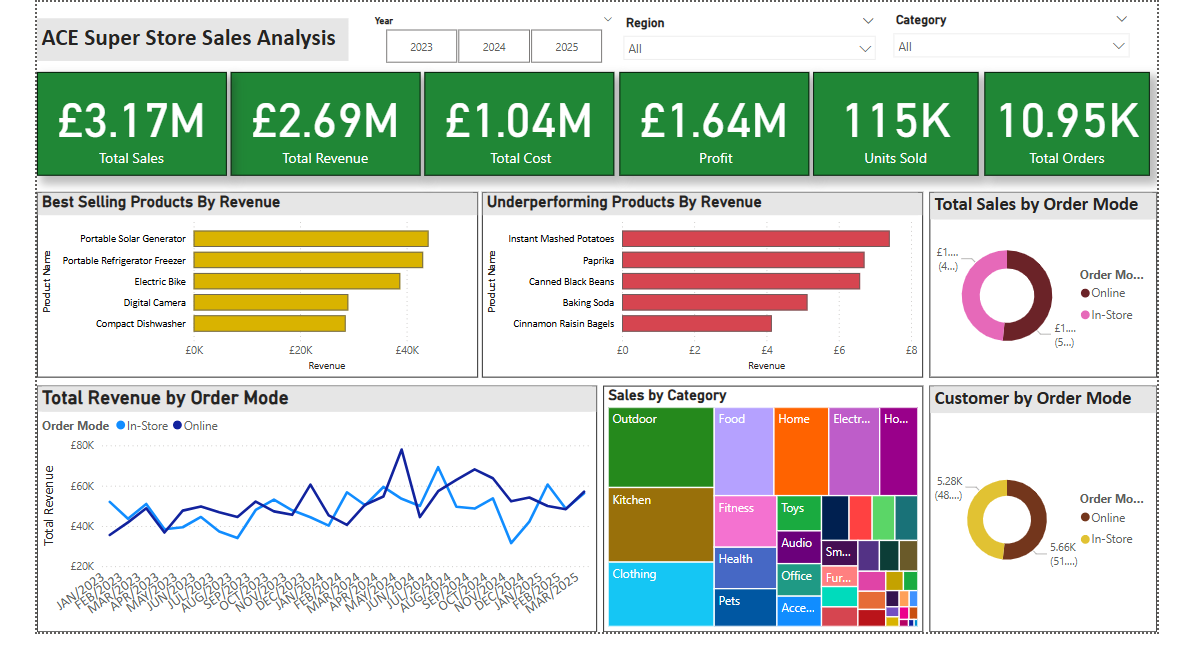

The dashboard page shown, as its layout file describes it:
{"tool":"powerbi","page":{"name":"Page 1","canvas":[1280,720],"ordinal":0},"visuals":[{"type":"lineChart","title":"Total Revenue by  Order Mode","fields":{"Y":["Sum(Processed Sales Dataset.Total Revenue)"],"Category":["Date.Month_Year"],"Series":["Sales.Order Mode"]},"box":[0,438.6,640,281.4],"z":1000},{"type":"clusteredBarChart","title":"Best Selling Products By Revenue","fields":{"Category":["Product.Product Name"],"Y":["Sum(Sales.Total Revenue)"]},"box":[0,217.1,503.7,211.8],"z":2000},{"type":"slicer","fields":{"Values":["Date.Year"]},"box":[372.2,10.1,297.2,66.4],"z":3001},{"type":"textbox","box":[0,18.8,356.4,49.1],"z":3002},{"type":"slicer","fields":{"Values":["Location.Region"]},"box":[659.3,10.1,308.8,66.4],"z":3003},{"type":"slicer","fields":{"Values":["Product.Category"]},"box":[968.1,7.2,290,72.1],"z":3004},{"type":"card","fields":{"Values":["Sum(Sales.Total Revenue)"]},"box":[220.7,79.4,216.4,118.3],"z":3005},{"type":"card","fields":{"Values":["Sum(Sales.Total Sales)"]},"box":[0,79.4,216.4,118.3],"z":3006},{"type":"card","fields":{"Values":["Sum(Sales.Total Cost)"]},"box":[442.9,79.4,216.4,118.3],"z":3007},{"type":"card","fields":{"Values":["Sum(Sales.Profit)"]},"box":[665.1,79.4,216.4,118.3],"z":3008},{"type":"card","fields":{"Values":["Sum(Sales.Quantity)"]},"box":[887.3,79.4,189,118.3],"z":3009},{"type":"card","fields":{"Values":["CountNonNull(Sales.Order ID)"]},"box":[1083.5,79.4,189,118.3],"z":3010},{"type":"clusteredBarChart","title":"Underperforming Products By Revenue","fields":{"Category":["Product.Product Name"],"Y":["Sum(Sales.Total Revenue)"]},"box":[509,217.1,503.7,211.8],"z":3011},{"type":"treemap","title":"Sales by Category","fields":{"Group":["Product.Category"],"Values":["Sum(Sales.Total Sales)"]},"box":[647.1,438.6,365.7,281.4],"z":3012},{"type":"donutChart","title":"Customer  by Order Mode","fields":{"Y":["CountNonNull(Processed Sales Dataset.Customer ID)"],"Category":["Processed Sales Dataset.Order Mode"]},"box":[1020,438.6,260,281.4],"z":3013},{"type":"donutChart","title":"Total Sales  by Order Mode","fields":{"Category":["Processed Sales Dataset.Order Mode"],"Y":["Sum(Sales.Total Sales)"]},"box":[1020,217,260,212],"z":3014}]}

Visuals, with their boxes in screenshot pixels (x1, y1, x2, y2), scaled from the page's 1280x720 canvas onto the 1203x657 screenshot:
"Total Revenue by  Order Mode" lineChart: bbox(0, 400, 602, 656)
"Best Selling Products By Revenue" clusteredBarChart: bbox(0, 198, 473, 391)
slicer - Date.Year: bbox(350, 9, 629, 70)
textbox: bbox(0, 17, 335, 62)
slicer - Location.Region: bbox(620, 9, 910, 70)
slicer - Product.Category: bbox(910, 7, 1182, 72)
card - Sum(Sales.Total Revenue): bbox(207, 72, 411, 180)
card - Sum(Sales.Total Sales): bbox(0, 72, 203, 180)
card - Sum(Sales.Total Cost): bbox(416, 72, 620, 180)
card - Sum(Sales.Profit): bbox(625, 72, 828, 180)
card - Sum(Sales.Quantity): bbox(834, 72, 1012, 180)
card - CountNonNull(Sales.Order ID): bbox(1018, 72, 1196, 180)
"Underperforming Products By Revenue" clusteredBarChart: bbox(478, 198, 952, 391)
"Sales by Category" treemap: bbox(608, 400, 952, 656)
"Customer  by Order Mode" donutChart: bbox(959, 400, 1202, 656)
"Total Sales  by Order Mode" donutChart: bbox(959, 198, 1202, 391)
